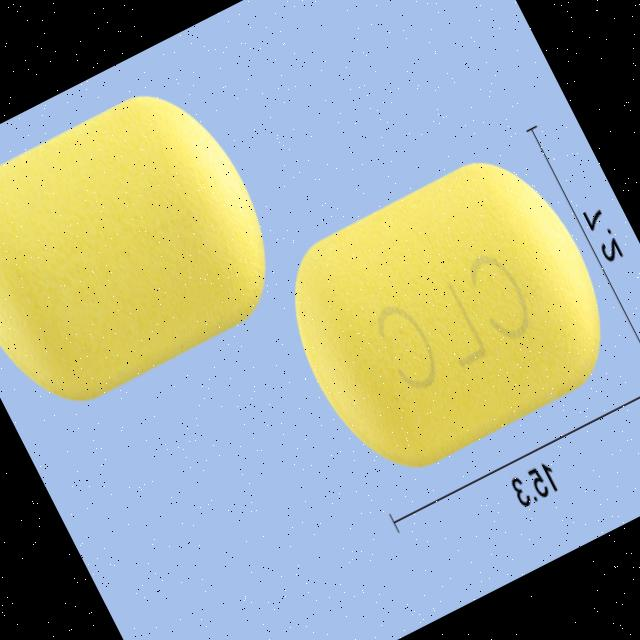Claric - 500mg: (252, 126, 640, 501), (0, 60, 306, 438)
